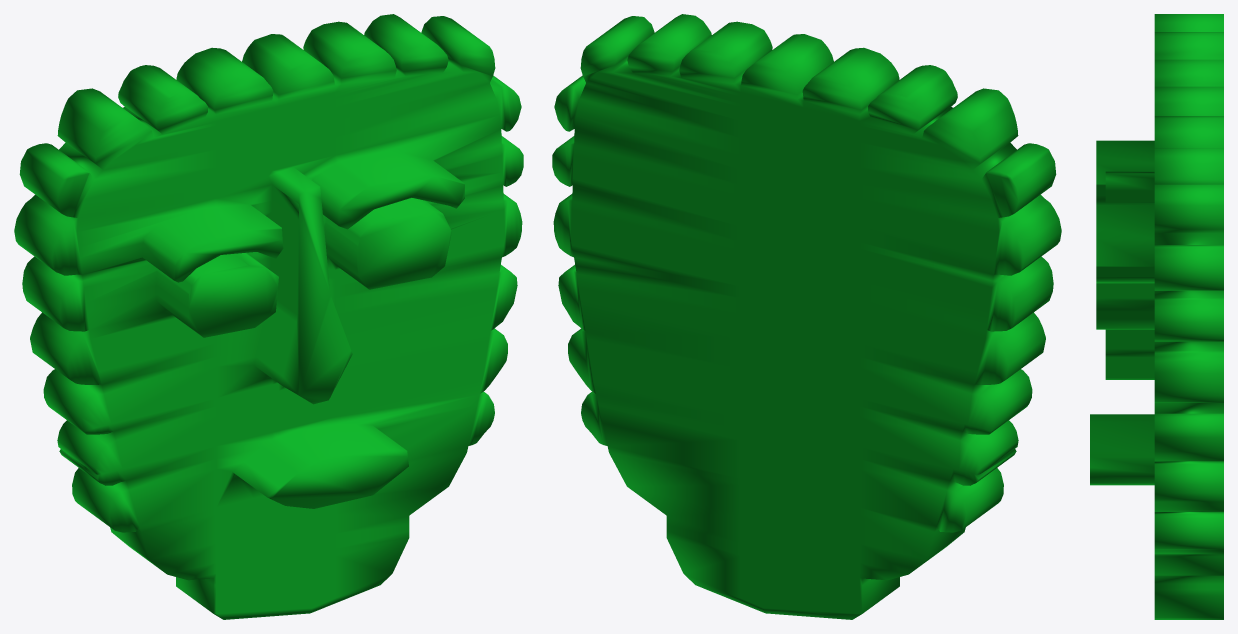
Rendered from mask2.FBX.
The picture shows the model from 3 angles, left to right: view 1: azimuth 30°, elevation 25°; view 2: azimuth 150°, elevation 25°; view 3: azimuth 270°, elevation 25°; orthographic projection. The views are drawn at different scales.
Visible parts, largest first — view 1: Box001; view 2: Box001; view 3: Box001.
Part boxes in pixels (bbox=[...]): Box001: bbox=[14, 14, 523, 619]; Box001: bbox=[552, 14, 1061, 619]; Box001: bbox=[1090, 14, 1223, 619].
Size of the model in its own units: 14.23 by 15.93 by 3.81.
